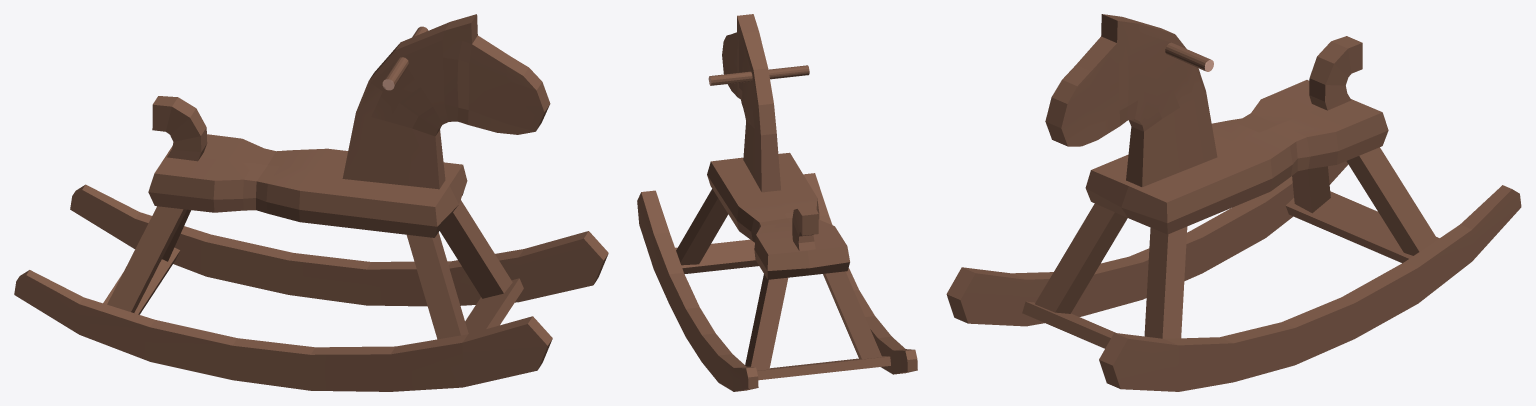
Rendered from Childrens_Room_Horse.glb.
3 renders of one model, left to right at view 1: azimuth 30°, elevation 25°; view 2: azimuth 150°, elevation 25°; view 3: azimuth 270°, elevation 25°, orthographic. The views are drawn at different scales.
Parts seen in each view (by area): view 1: Childrens_Room_Horse; view 2: Childrens_Room_Horse; view 3: Childrens_Room_Horse.
Boxes of the visible parts, x1,y1,x2,y2 form: Childrens_Room_Horse: (14,14,608,391); Childrens_Room_Horse: (637,14,917,391); Childrens_Room_Horse: (946,14,1521,391).
Bounding box in the file's own units: 2.86 × 1.96 × 2.88.
Materials: 1 (1 with a texture image).
